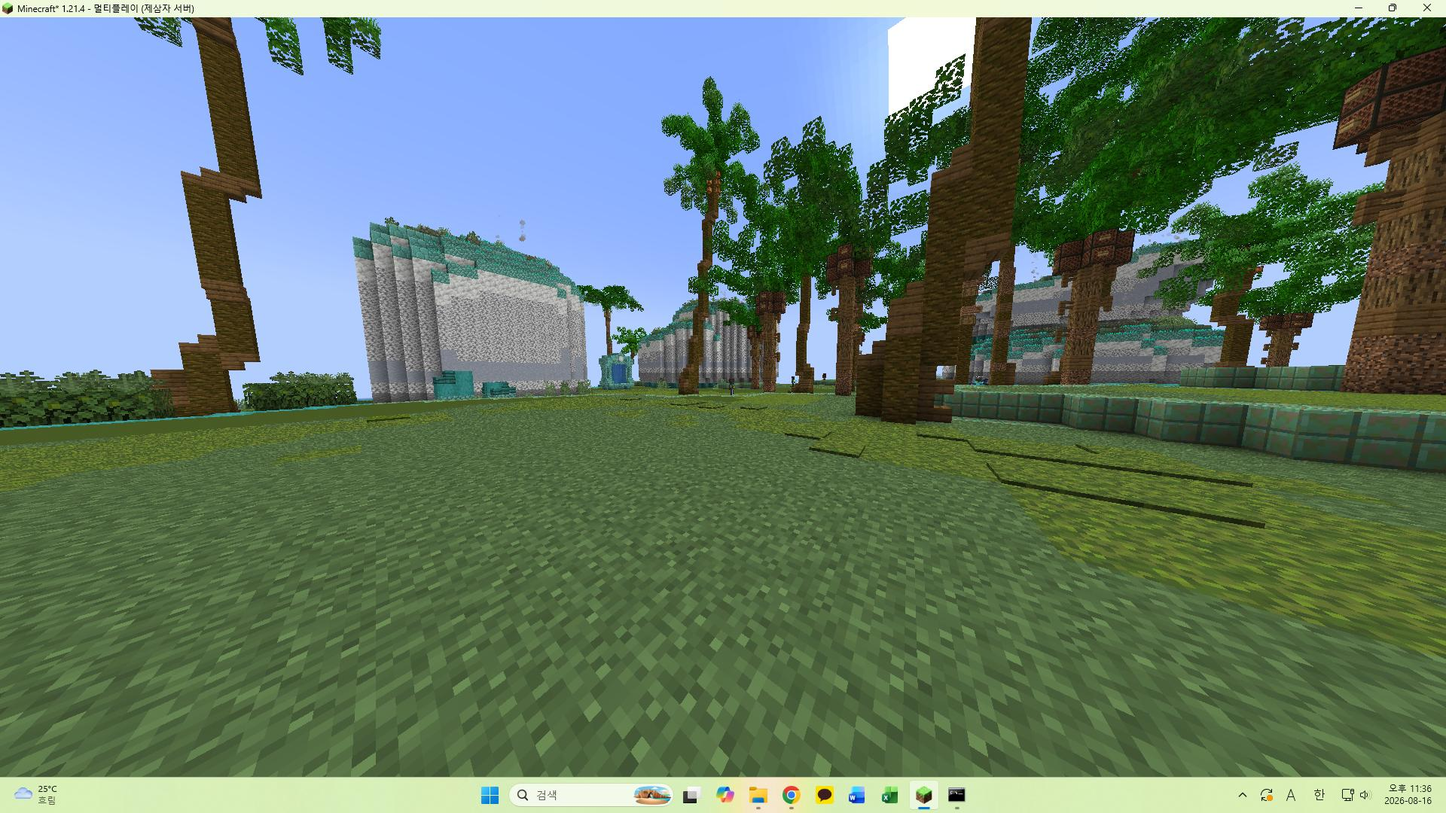Guardian: (730, 379, 736, 396)
